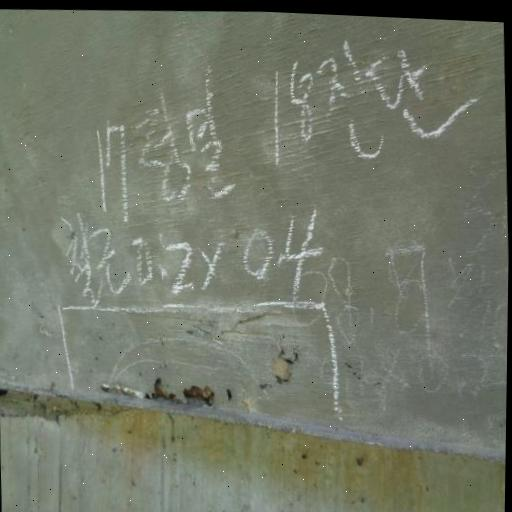exposed_rebar: (184, 386, 214, 402)
